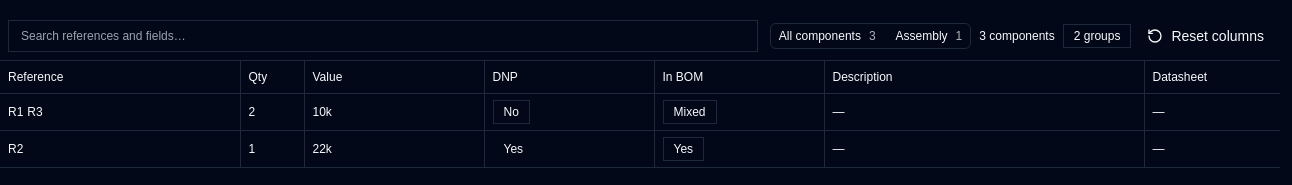
it: EngineeringBomTable assembly filter › filters to the assembly and recomputes the quantity
Expected: the text "2" is shown, [240,94,304,130]
Click the button "Assembly 1".
click(929, 36)  # box [888,24,970,48]
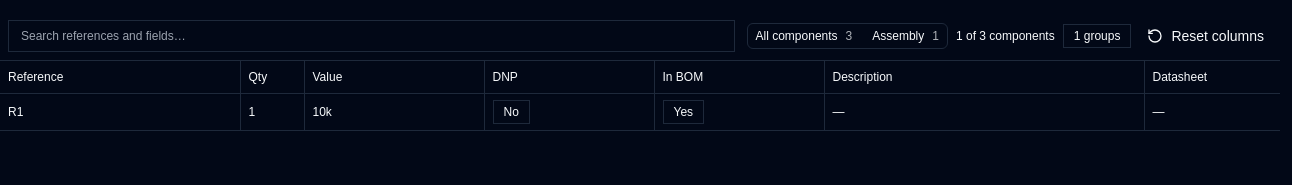
Result: the button "R2" is gone
Result: the button "R3" is gone
Result: the text "1 of 3 components" is shown at [956,28,1055,44]
Click the button "All components 3".
click(804, 36)  # box [748,24,860,48]
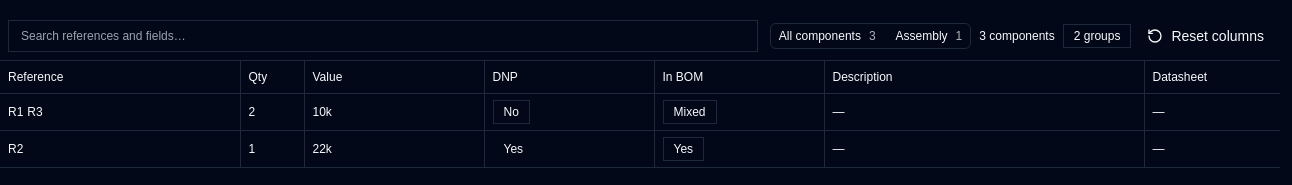
Expected: the text "2" is shown, [240,94,304,130]
Result: the button "R3" is shown at [27,100,43,124]
